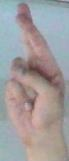R: (0, 1, 69, 144)
